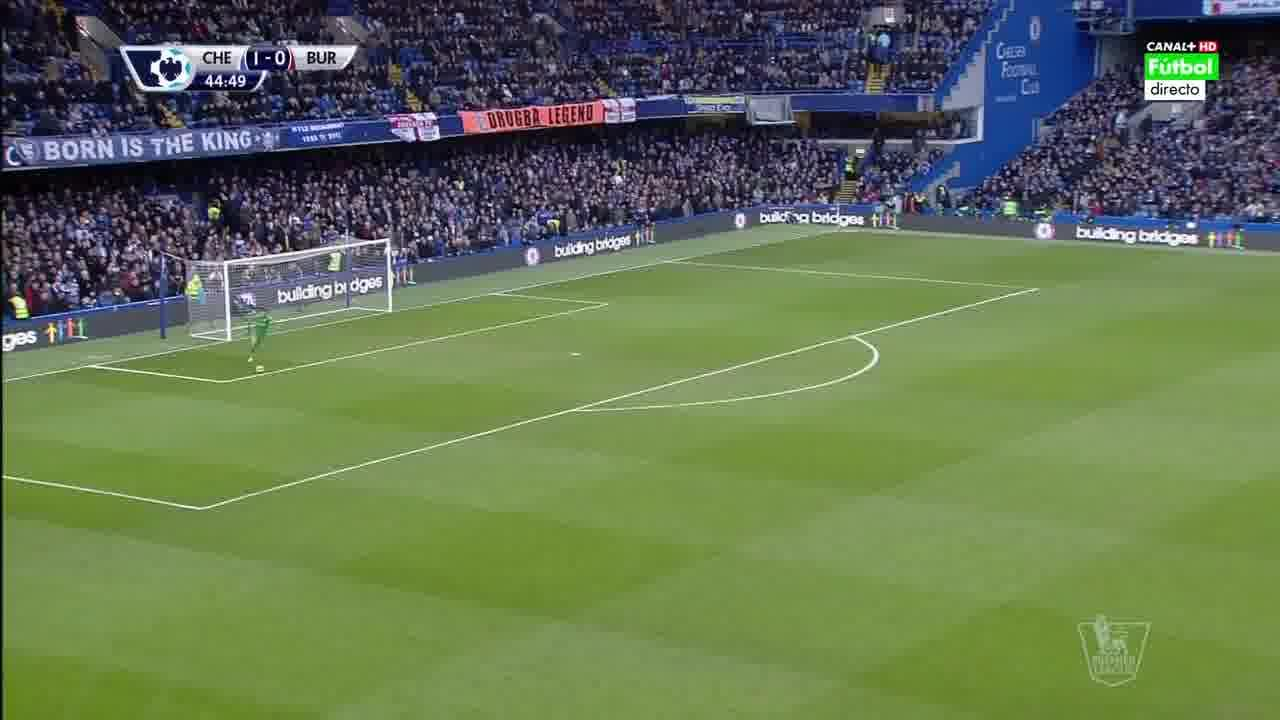football: (256, 365, 264, 373)
